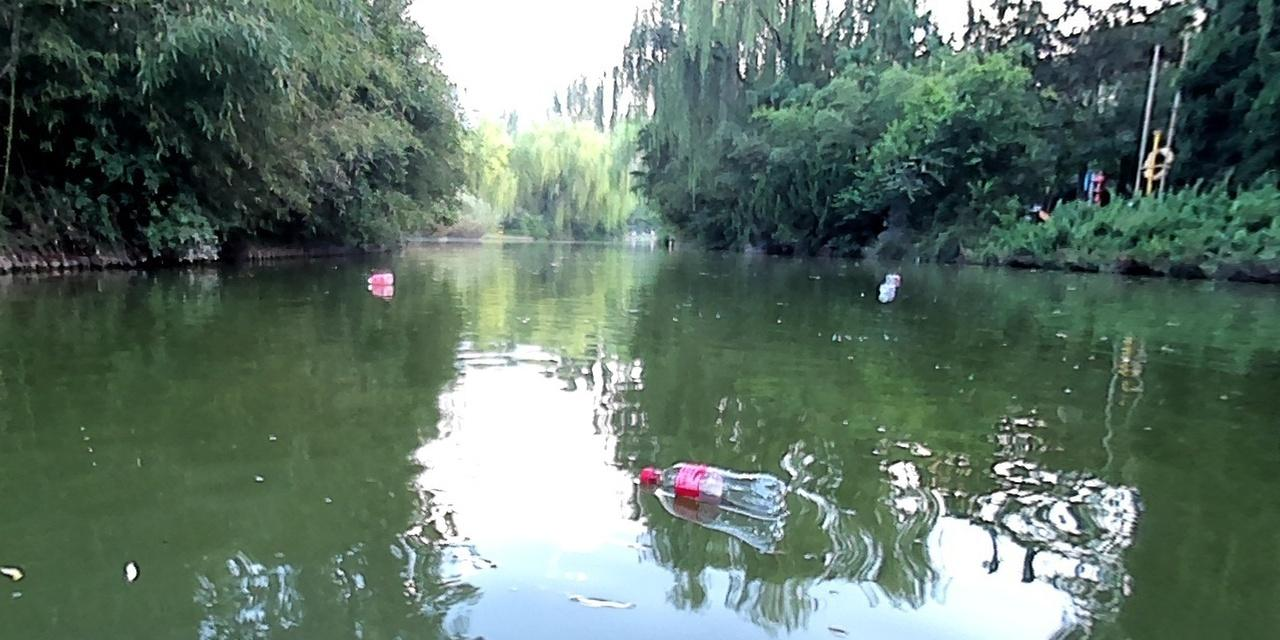bottle: (636, 461, 784, 520), (365, 270, 393, 286), (874, 281, 895, 300)
